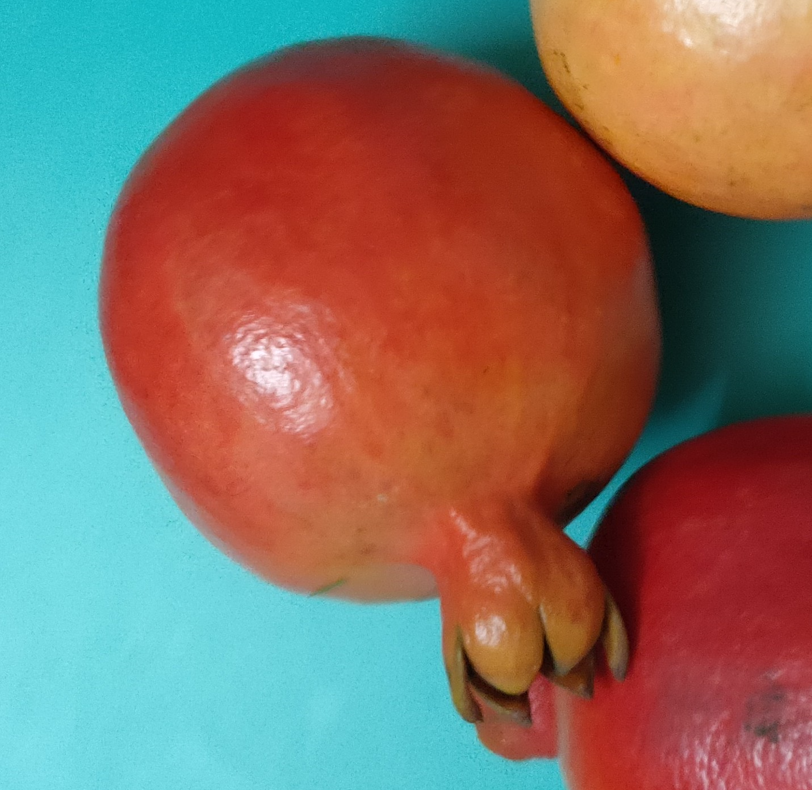pomegranate_A: (96, 35, 662, 727)
